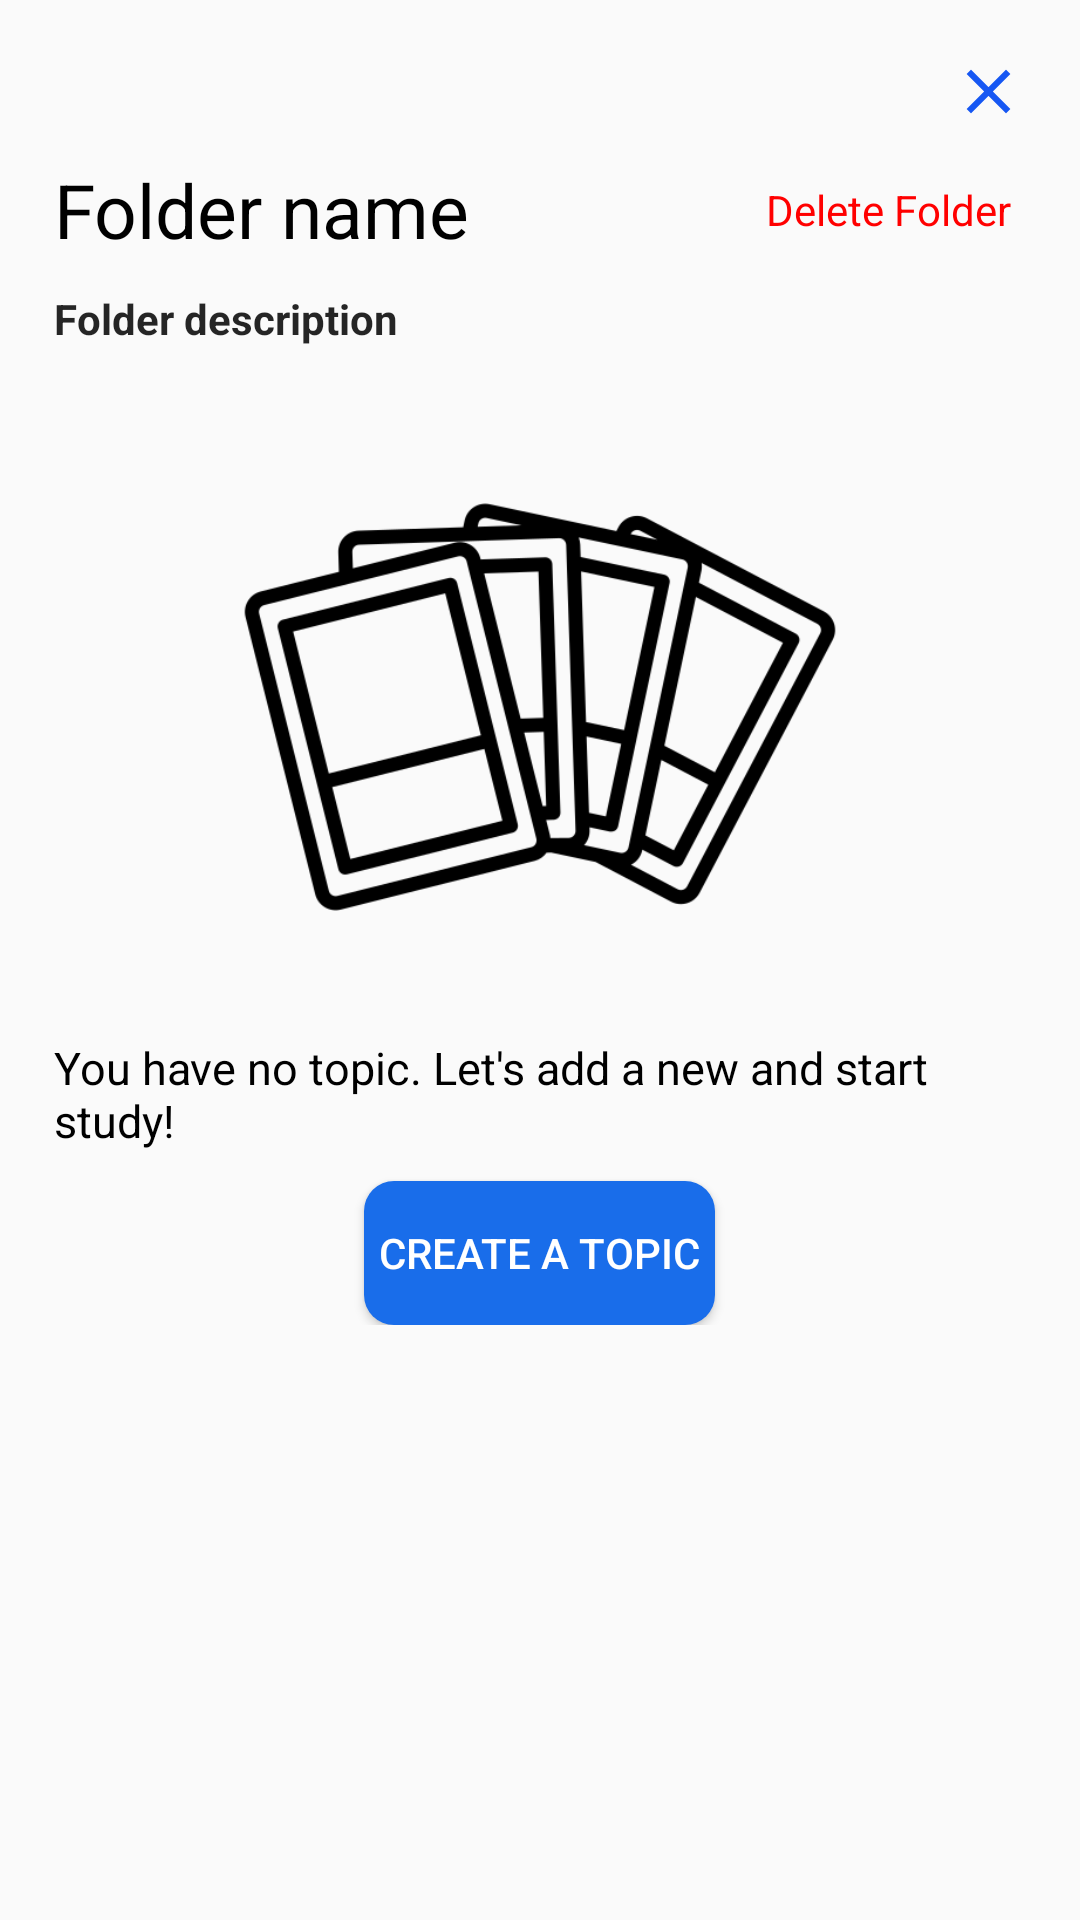

Locate icon controls on the screen. Image size 1080px x 1920px, boxes as (x1, y1, x2, y2).
close: (967, 70, 1010, 113)
